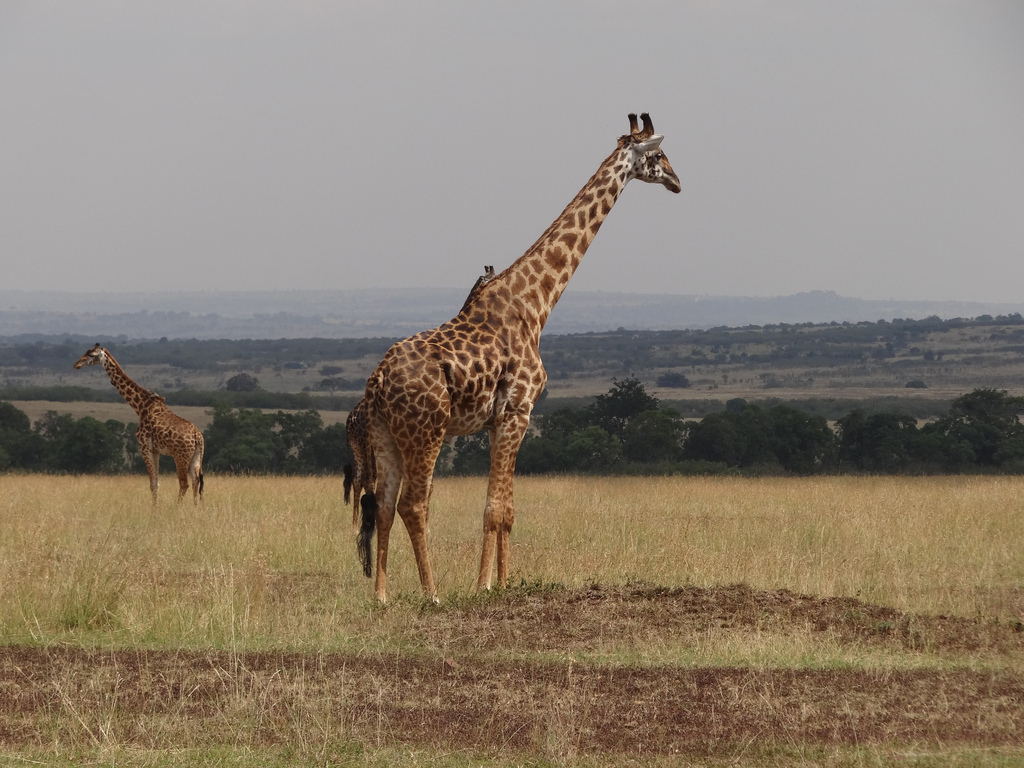giraffe: (337, 99, 697, 635), (67, 329, 222, 524)
